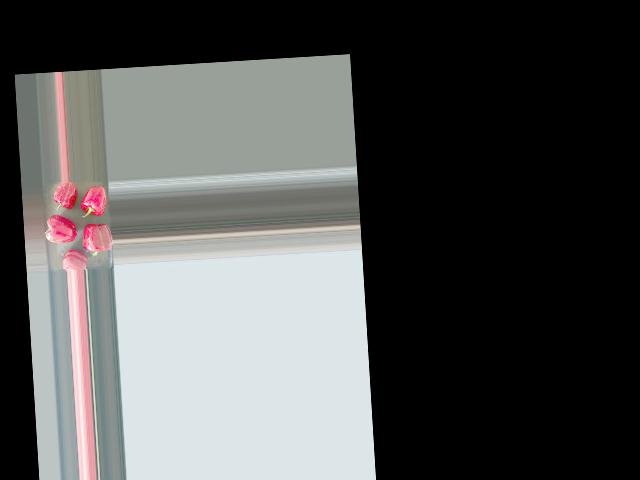bell_pepper: (56, 247, 89, 271)
